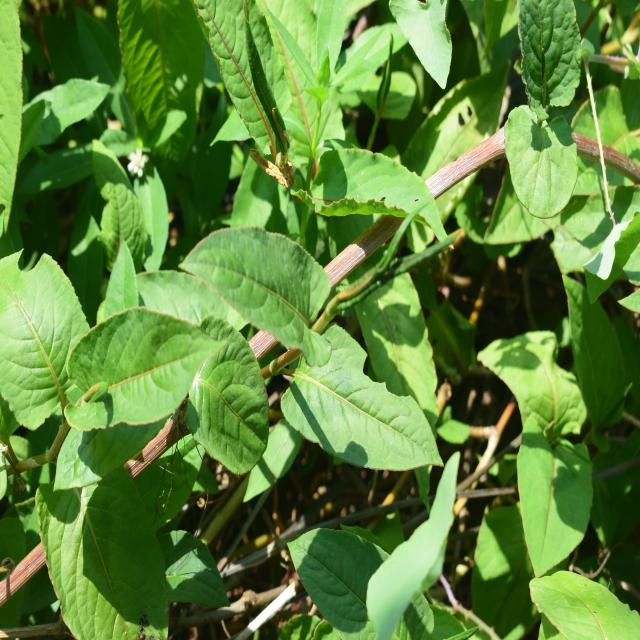Chinese_knotweed: (142, 219, 431, 492), (0, 255, 178, 616)
